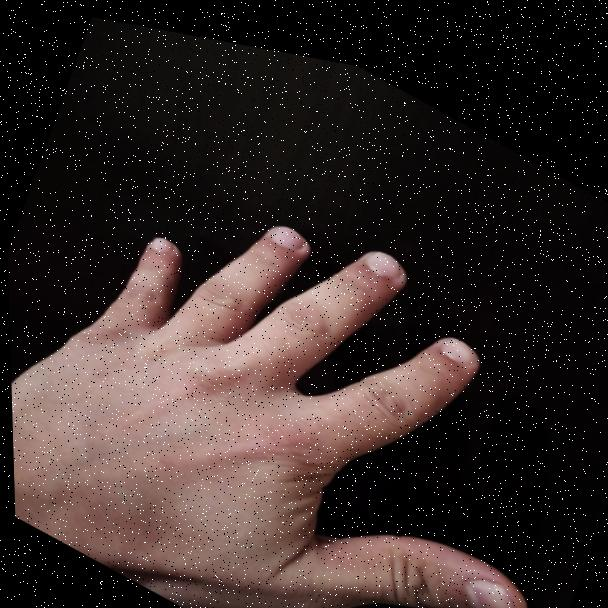five: (2, 83, 608, 608)
